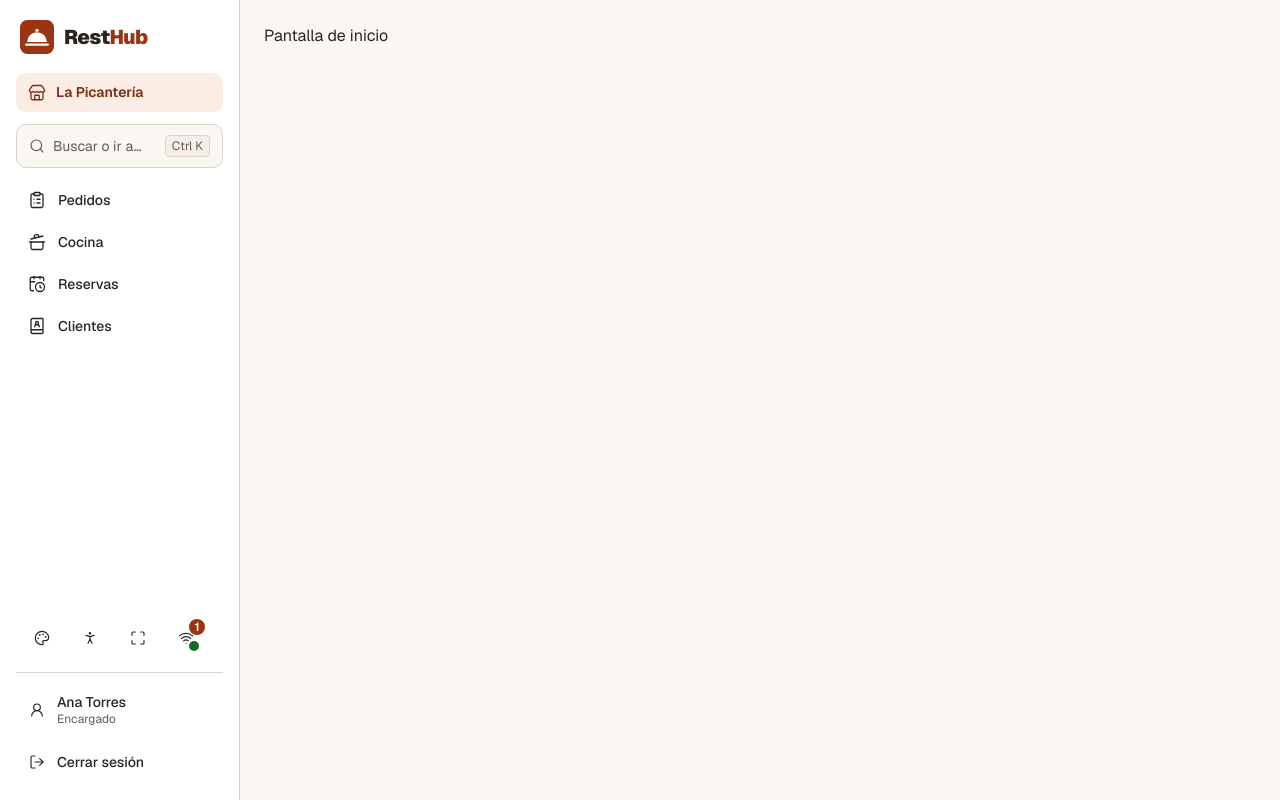
AppShell: sesión y precargas › con pedidos sin enviar, pregunta antes de cerrar la sesión
Step 1. Click the button "Cerrar sesión" → (120, 762), box [16,740,223,784]
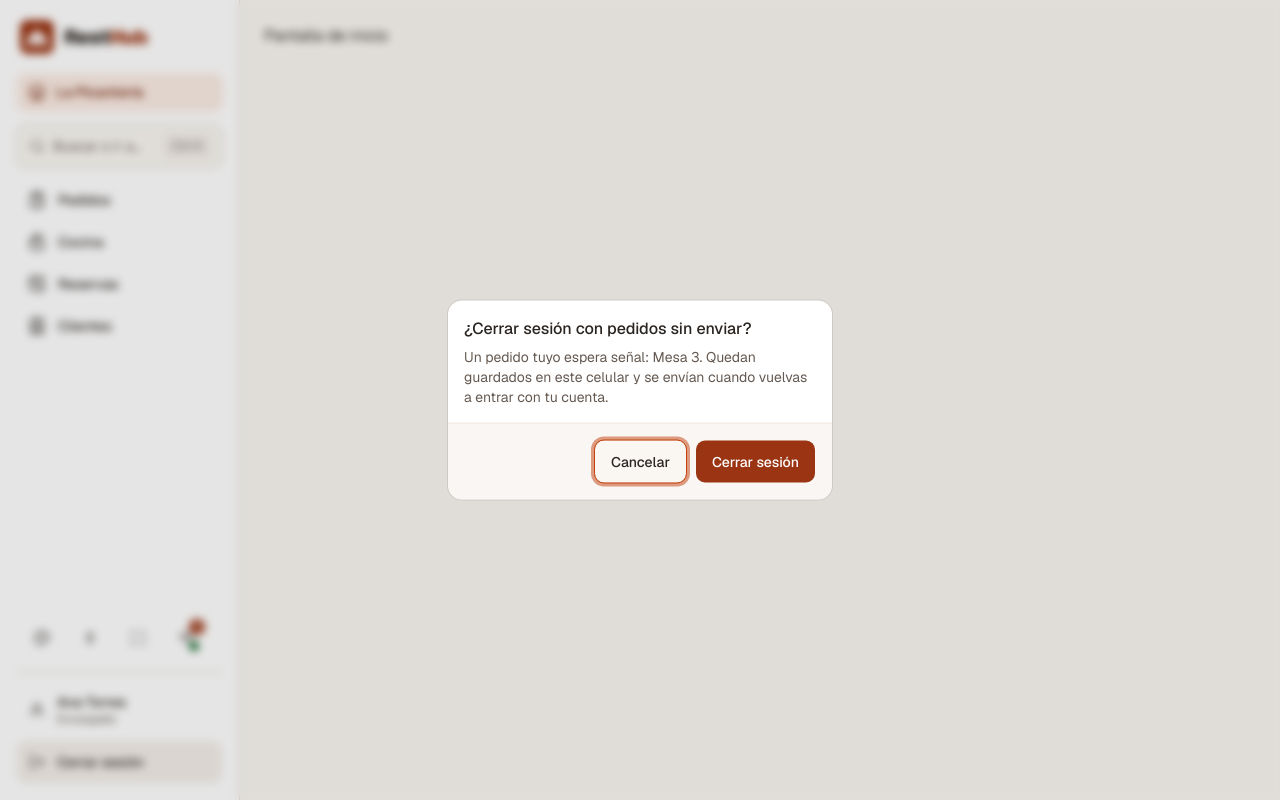
Now the text "Un pedido tuyo espera señal: Mesa 3" is shown, box [464,348,807,406]
Step 2. Click the button "Cerrar sesión" → (755, 462), box [695,440,816,484]
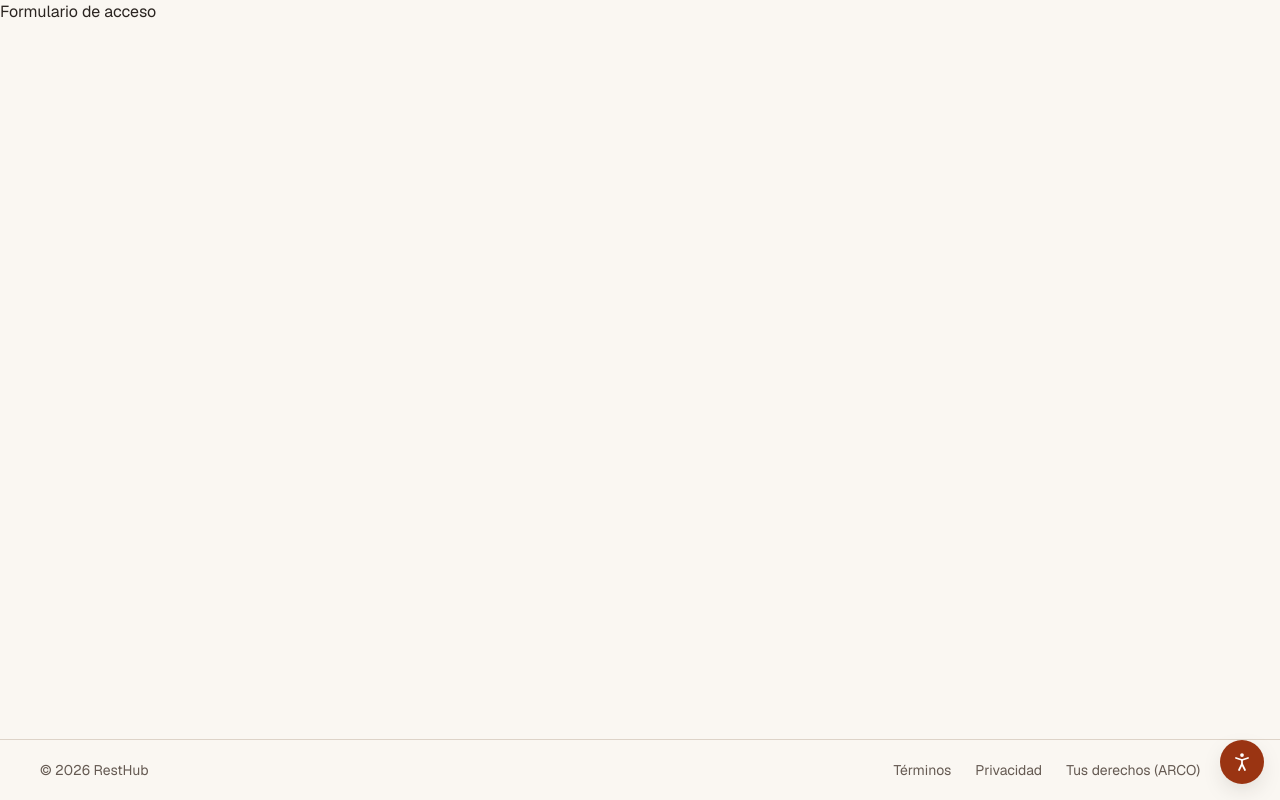
Now the text "Formulario de acceso" is shown, box [0,1,156,22]
